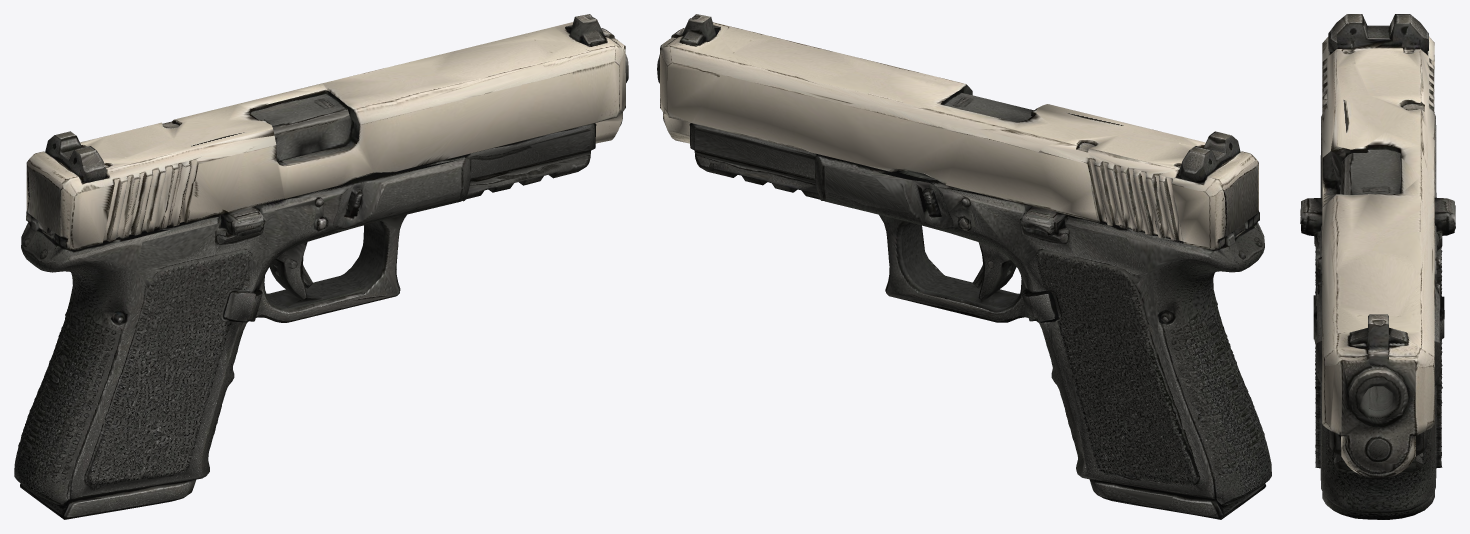
Rendered from pistol.glb.
3 views of the same model, side by side, from view 1: azimuth 30°, elevation 25°; view 2: azimuth 150°, elevation 25°; view 3: azimuth 270°, elevation 25° (orthographic). The views are drawn at different scales.
Visible parts, largest first — view 1: tripo_node_83aab173-ade6-4df6-9adc-e123159569ae; view 2: tripo_node_83aab173-ade6-4df6-9adc-e123159569ae; view 3: tripo_node_83aab173-ade6-4df6-9adc-e123159569ae.
Boxes of the visible parts, x1,y1,x2,y2 form: tripo_node_83aab173-ade6-4df6-9adc-e123159569ae: [14, 14, 628, 519]; tripo_node_83aab173-ade6-4df6-9adc-e123159569ae: [657, 14, 1271, 519]; tripo_node_83aab173-ade6-4df6-9adc-e123159569ae: [1300, 14, 1455, 519].
Size of the model in its own units: 0.9798 by 0.5713 by 0.1834.
1 material, 1 textured.
